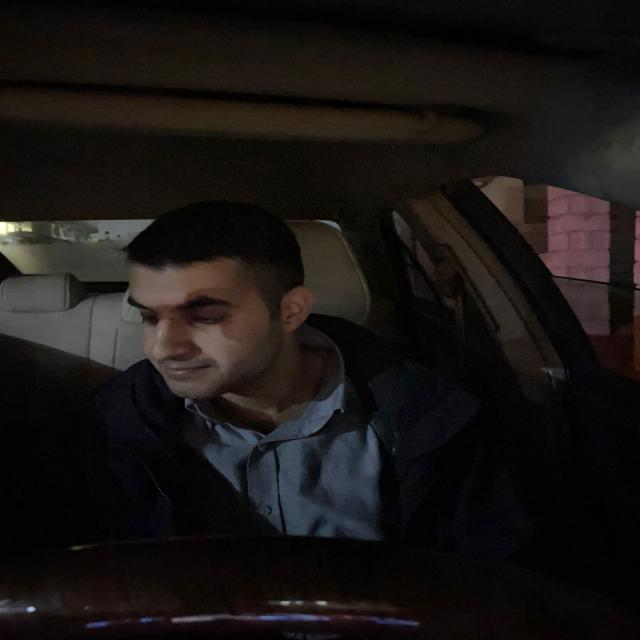person: (118, 215, 320, 401)
